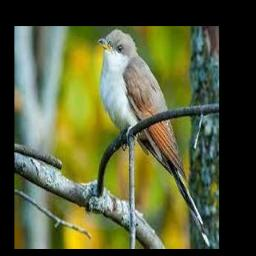Cuckoo: (98, 28, 212, 249)
